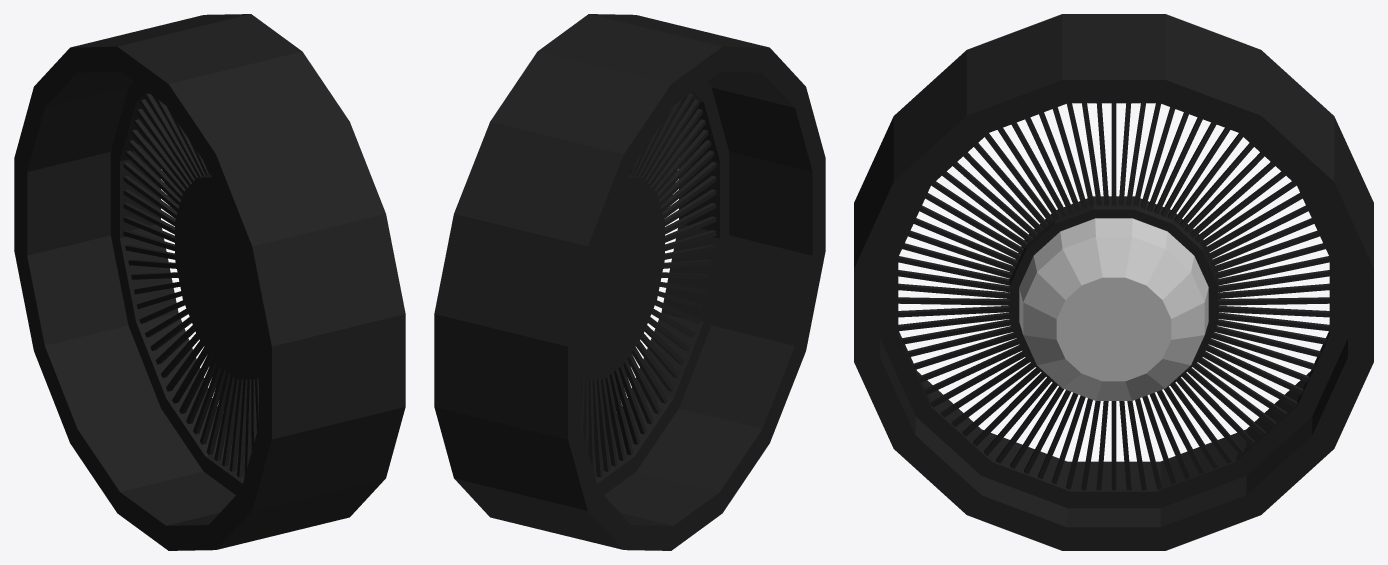
Rendered from rim_wire.obj.
The picture shows the model from 3 angles, left to right: view 1: azimuth 30°, elevation 25°; view 2: azimuth 150°, elevation 25°; view 3: azimuth 270°, elevation 25°; orthographic projection.
Visible parts, largest first — view 1: rim; view 2: rim; view 3: rim.
Boxes of the visible parts, x1=… form: rim: x1=14, y1=14, x2=405, y2=550; rim: x1=434, y1=14, x2=825, y2=550; rim: x1=854, y1=14, x2=1373, y2=550.
Size of the model in its own units: 0.2276 by 0.625 by 0.625.
